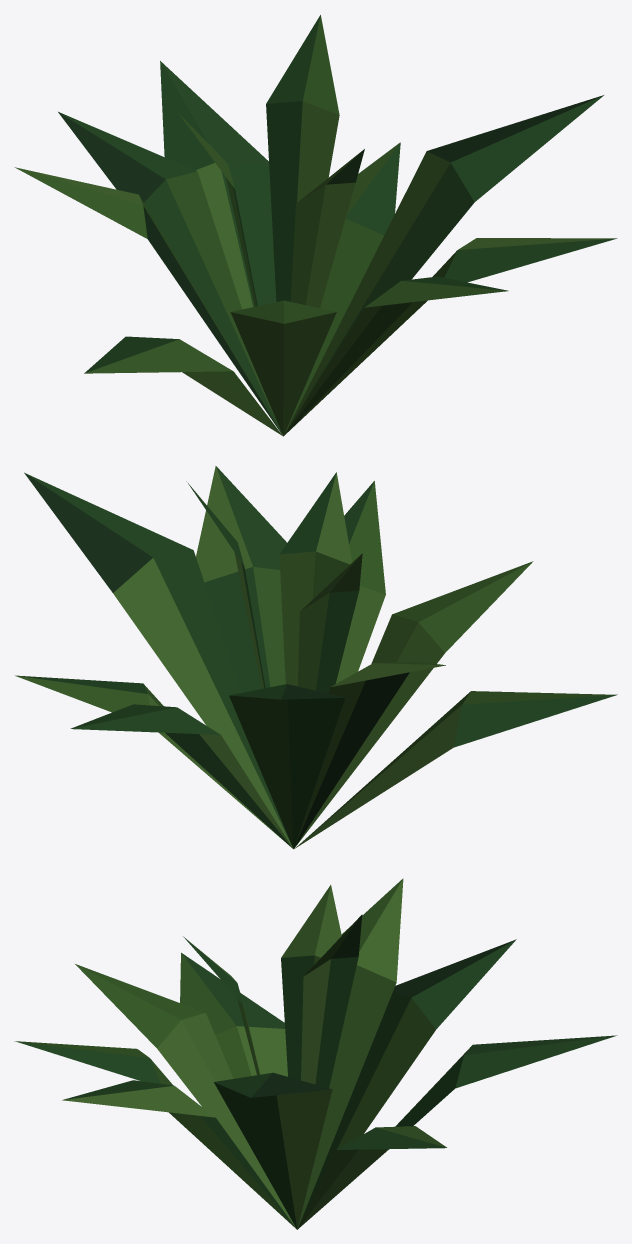
File: SM_Eco_Broadleaf.glb
The picture shows the model from 3 angles, top to bottom: view 1: azimuth 30°, elevation 25°; view 2: azimuth 150°, elevation 25°; view 3: azimuth 270°, elevation 25°; orthographic projection. The views are drawn at different scales.
Visible parts, largest first — view 1: SM_Eco_Broadleaf; view 2: SM_Eco_Broadleaf; view 3: SM_Eco_Broadleaf.
Part boxes in pixels (left/top/right/bottom): SM_Eco_Broadleaf: left=14, top=15, right=617, bottom=436; SM_Eco_Broadleaf: left=15, top=466, right=617, bottom=849; SM_Eco_Broadleaf: left=14, top=878, right=617, bottom=1229.
Size of the model in its own units: 2.89 by 1.87 by 2.93.
Materials: 1 (1 with a texture image).
